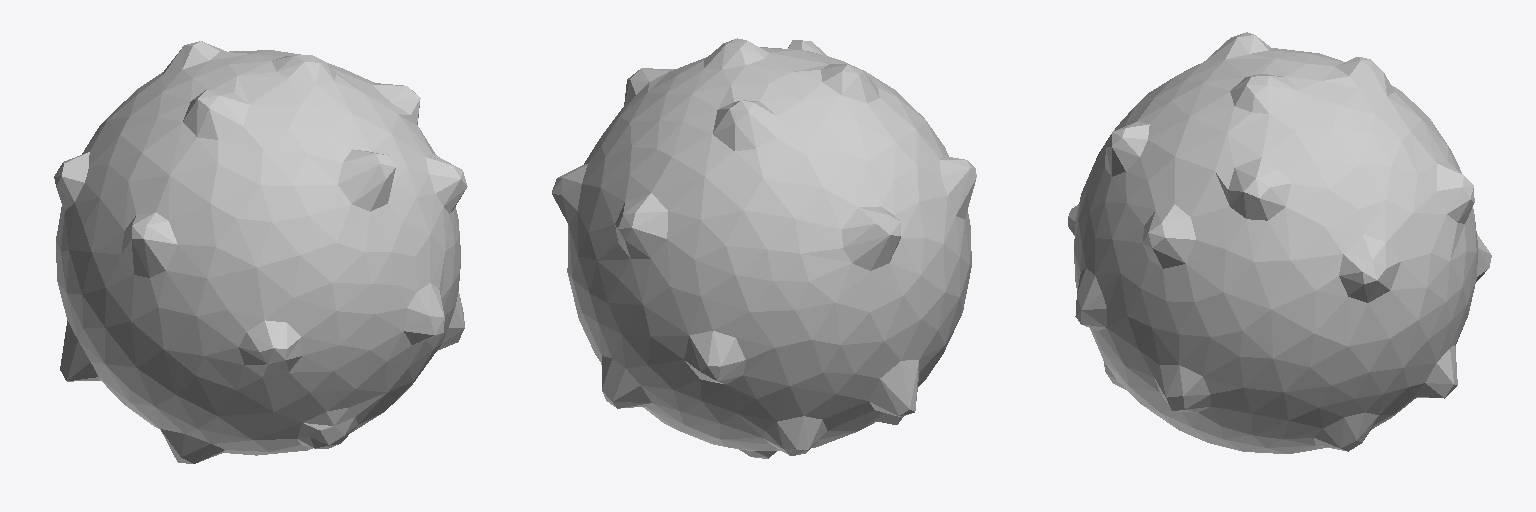
File: sun.obj
3 views of the same model, side by side, from view 1: azimuth 30°, elevation 25°; view 2: azimuth 150°, elevation 25°; view 3: azimuth 270°, elevation 25° (orthographic).
Parts seen in each view (by area): view 1: Sun; view 2: Sun; view 3: Sun.
Boxes of the visible parts, <box> form: Sun: <box>54,41,467,463</box>; Sun: <box>552,38,976,458</box>; Sun: <box>1068,32,1491,453</box>.
Size of the model in its own units: 7.37 by 7.88 by 7.72.